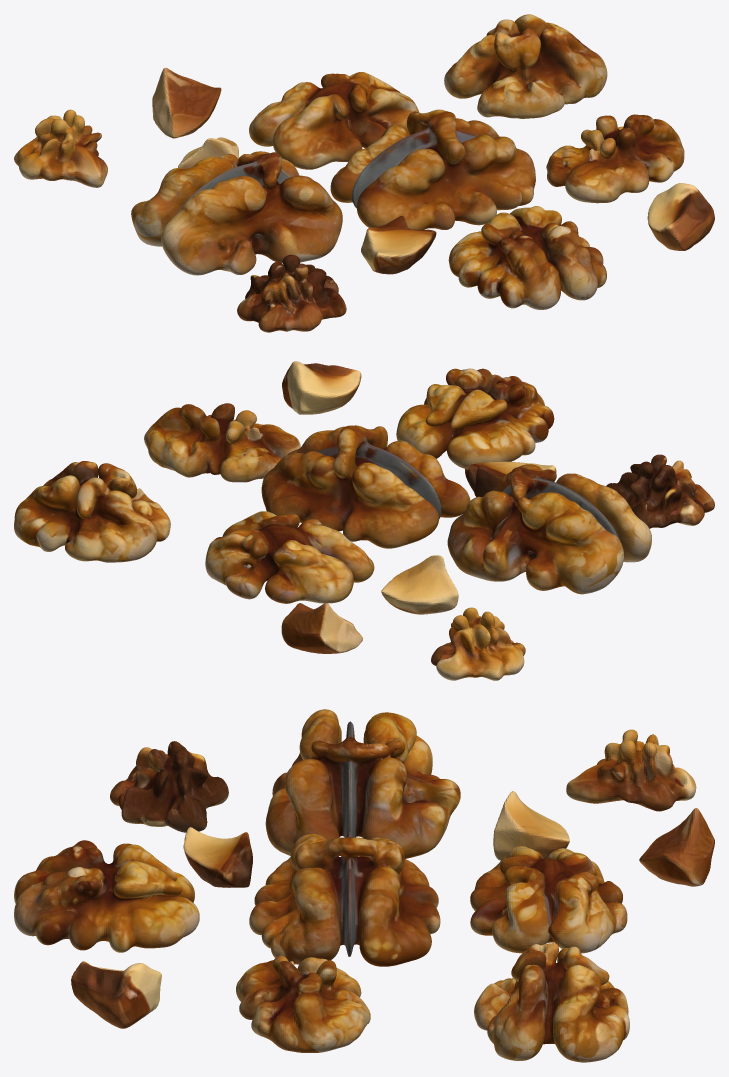
The model's file is topping_nuts.glb.
3 renders of one model, top to bottom at view 1: azimuth 30°, elevation 25°; view 2: azimuth 150°, elevation 25°; view 3: azimuth 270°, elevation 25°, orthographic. The views are drawn at different scales.
Parts seen in each view (by area): view 1: tripo_node_34e1e146-fe7d-4852-8128-5e0e8abf936d; view 2: tripo_node_34e1e146-fe7d-4852-8128-5e0e8abf936d; view 3: tripo_node_34e1e146-fe7d-4852-8128-5e0e8abf936d.
Part boxes in pixels (x1,y1,x2,y2): tripo_node_34e1e146-fe7d-4852-8128-5e0e8abf936d: [14, 14, 714, 332]; tripo_node_34e1e146-fe7d-4852-8128-5e0e8abf936d: [14, 361, 714, 680]; tripo_node_34e1e146-fe7d-4852-8128-5e0e8abf936d: [14, 709, 714, 1062].
Bounding box in the file's own units: 1 × 0.1619 × 0.9931.
1 material, 1 textured.
